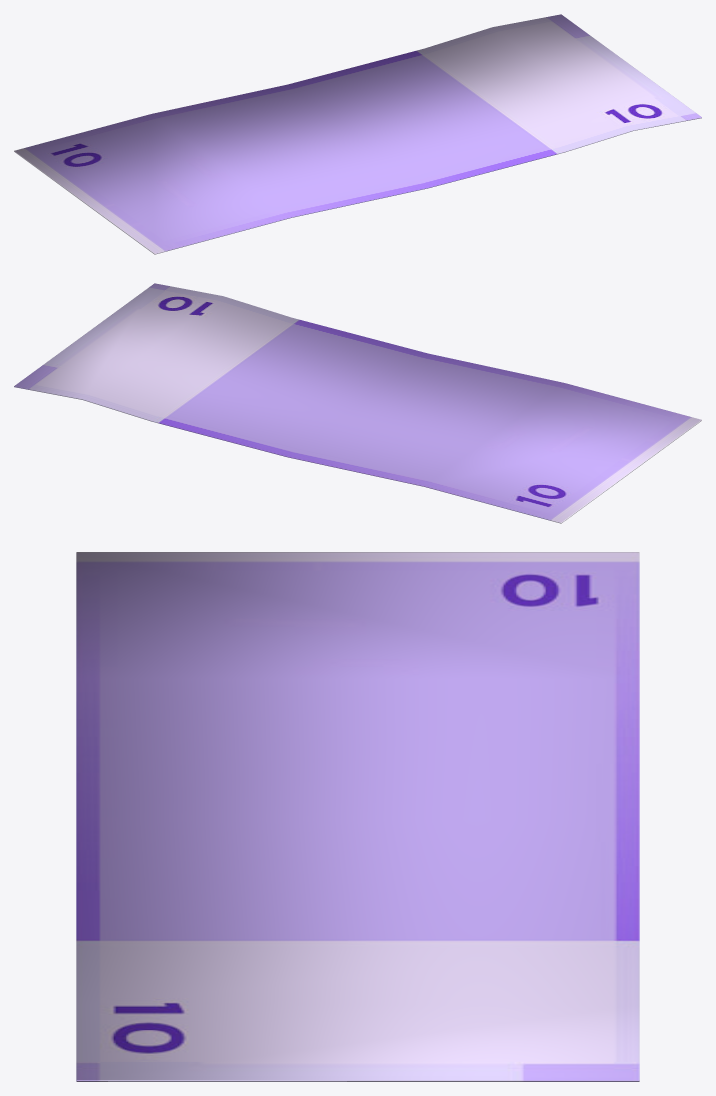
The model's file is Money_10.fbx.
3 views of the same model, one above another, from view 1: azimuth 30°, elevation 25°; view 2: azimuth 150°, elevation 25°; view 3: azimuth 270°, elevation 25° (orthographic). The views are drawn at different scales.
Visible parts, largest first — view 1: Money; view 2: Money; view 3: Money.
Boxes of the visible parts, left/top/right/bottom form: Money: left=14, top=14, right=701, bottom=254; Money: left=14, top=283, right=701, bottom=523; Money: left=76, top=552, right=639, bottom=1081.
Size of the model in its own units: 14.78 by 0.2098 by 6.59.
